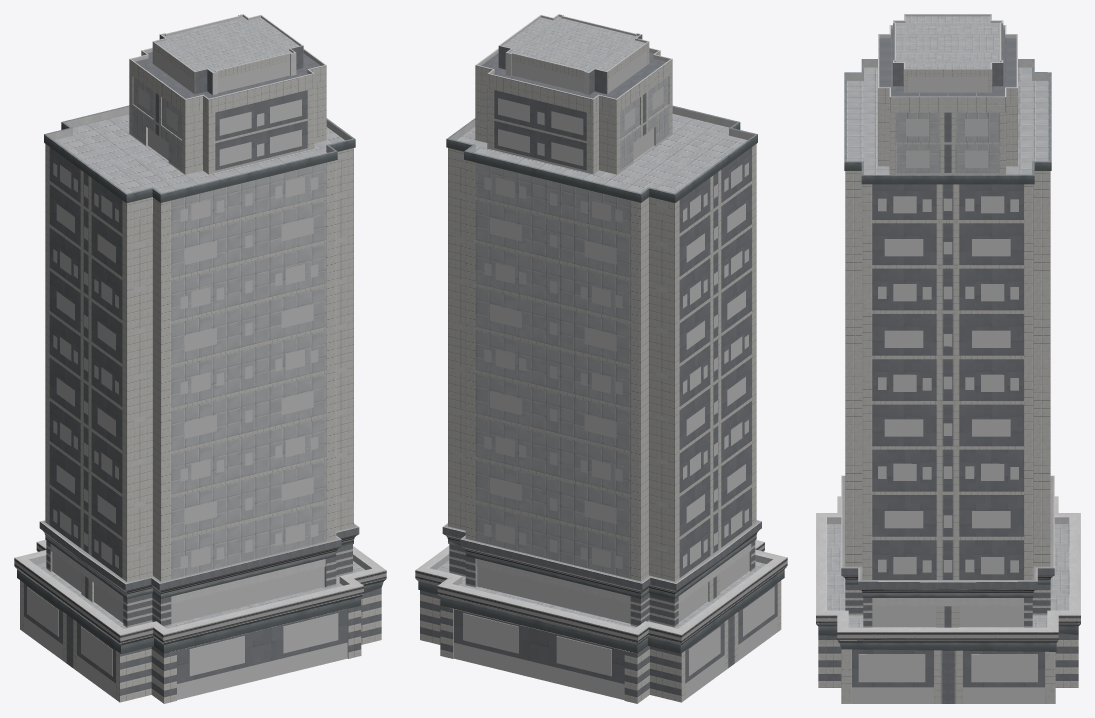
The model's file is House_GD.fbx.
3 renders of one model, left to right at view 1: azimuth 30°, elevation 25°; view 2: azimuth 150°, elevation 25°; view 3: azimuth 270°, elevation 25°, orthographic. The views are drawn at different scales.
Visible parts, largest first — view 1: House_GD; view 2: House_GD; view 3: House_GD.
Part boxes in pixels (x1,y1,x2,y2): House_GD: (14,14,386,703); House_GD: (415,14,787,703); House_GD: (816,14,1080,703).
Size of what is drawn, in the model's own units: 40.53 by 85 by 33.45.
